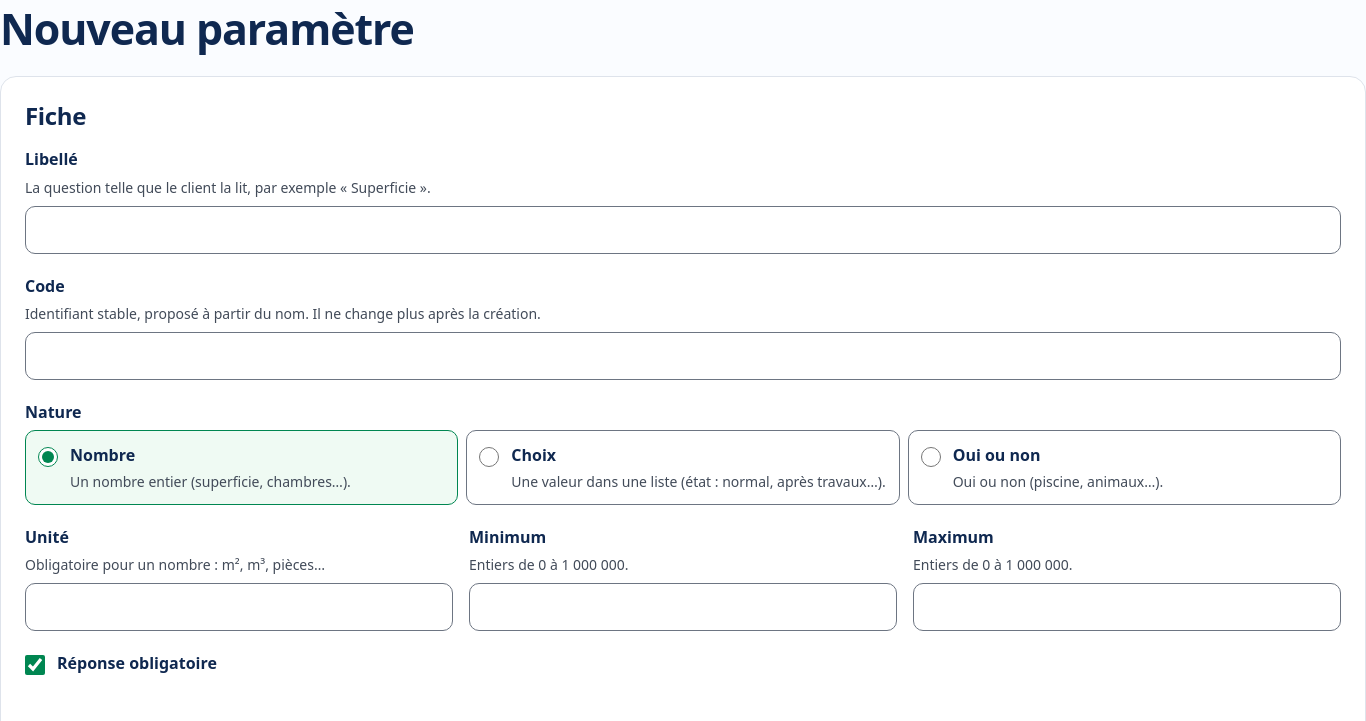
Test: paramètres › refus de la gateway sur un champ : message sous le champ, nouvelle clé au nouvel essai
Step 1. Type "État" into the field labelled "Libellé" → (683, 230), box [25, 206, 1341, 254]
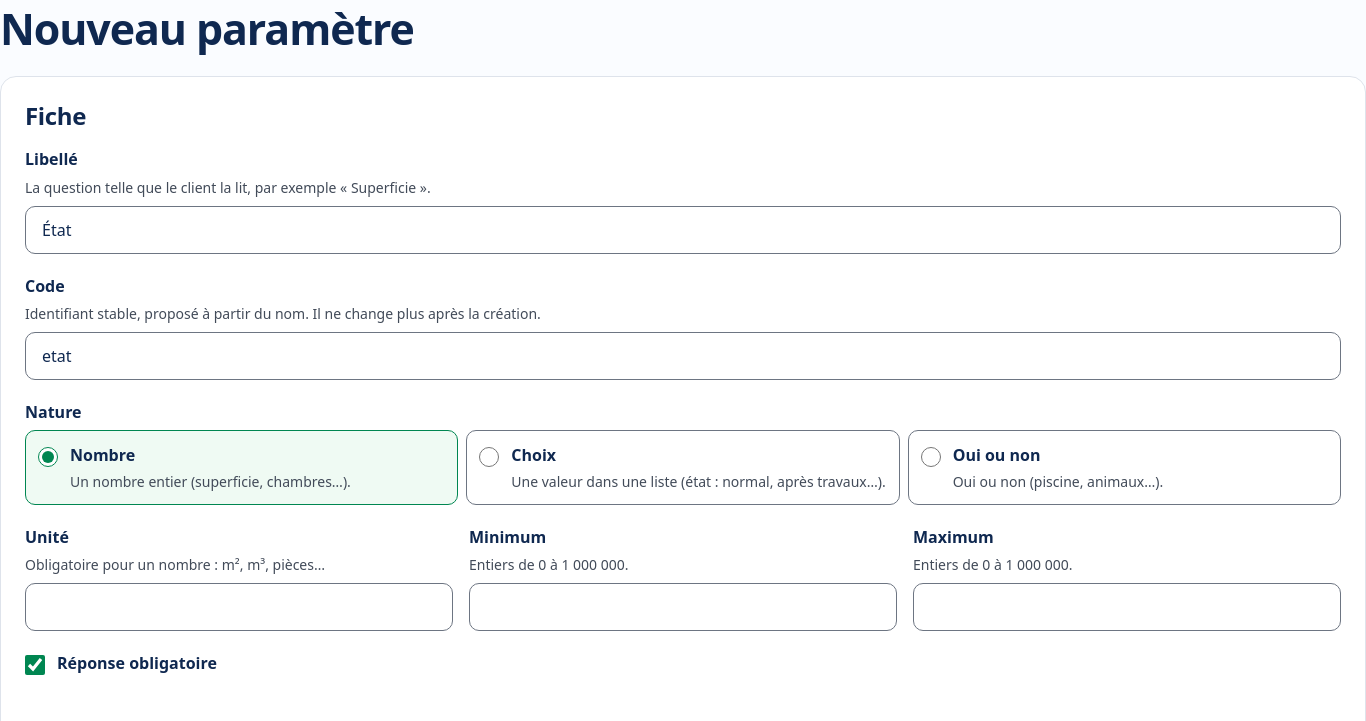
Step 2. Click the radio button labelled "Choix" → (489, 457), box [479, 447, 499, 467]
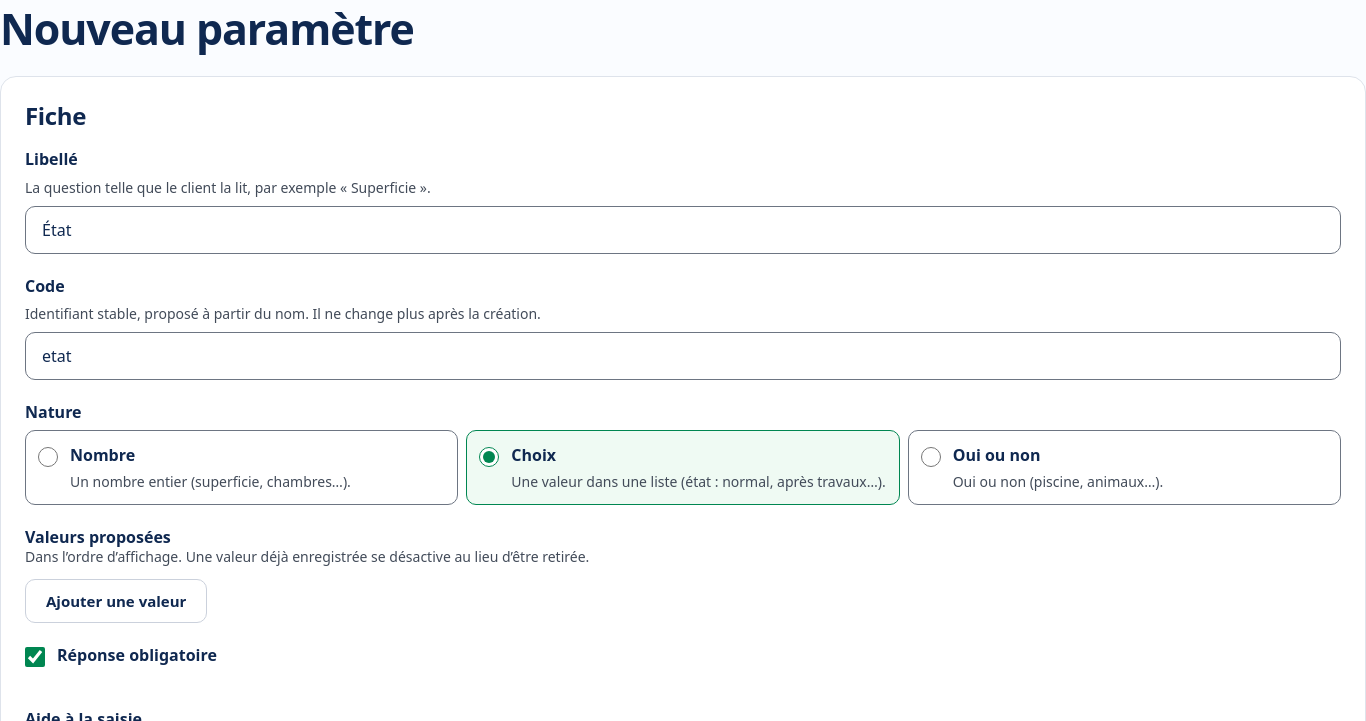
Step 3. Click the button "Ajouter une valeur" → (116, 601), box [25, 579, 207, 623]
(page scrolled)
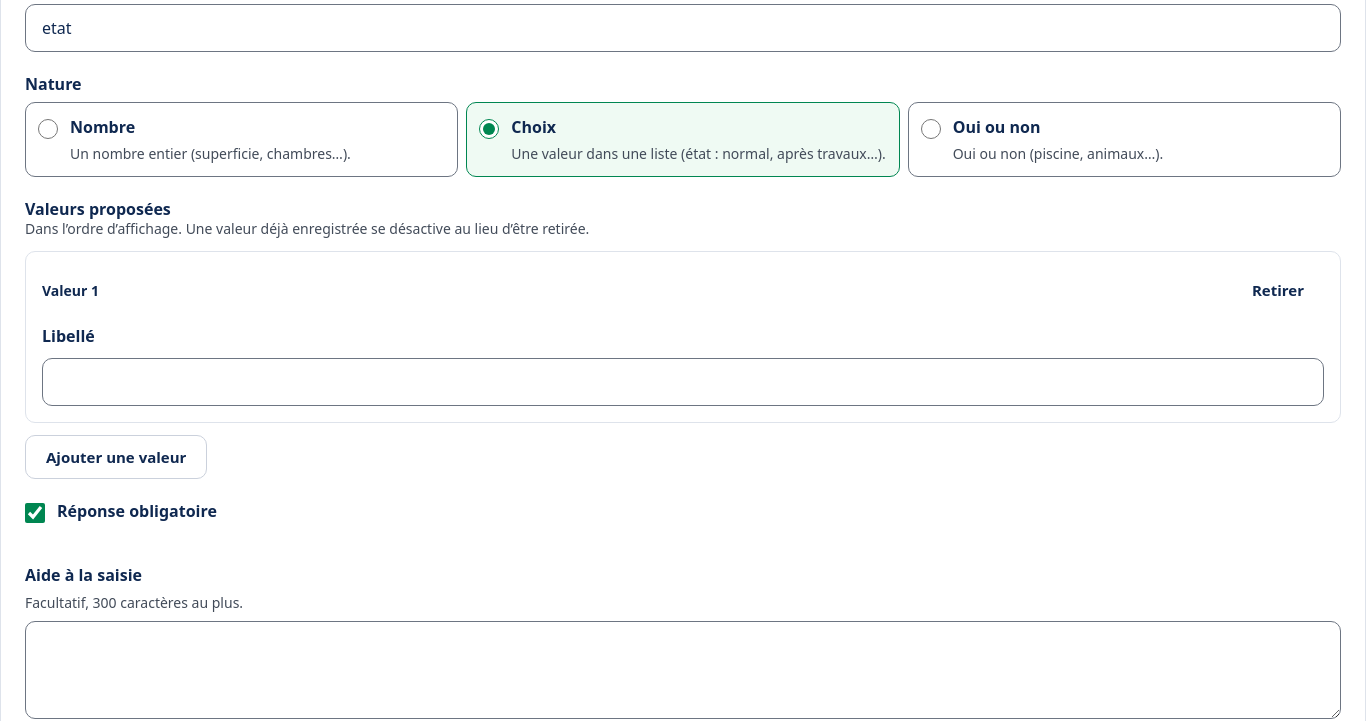
Step 4. Type "Normal" into the field labelled "Libellé" → (683, 382), box [42, 358, 1324, 406]
(page scrolled)
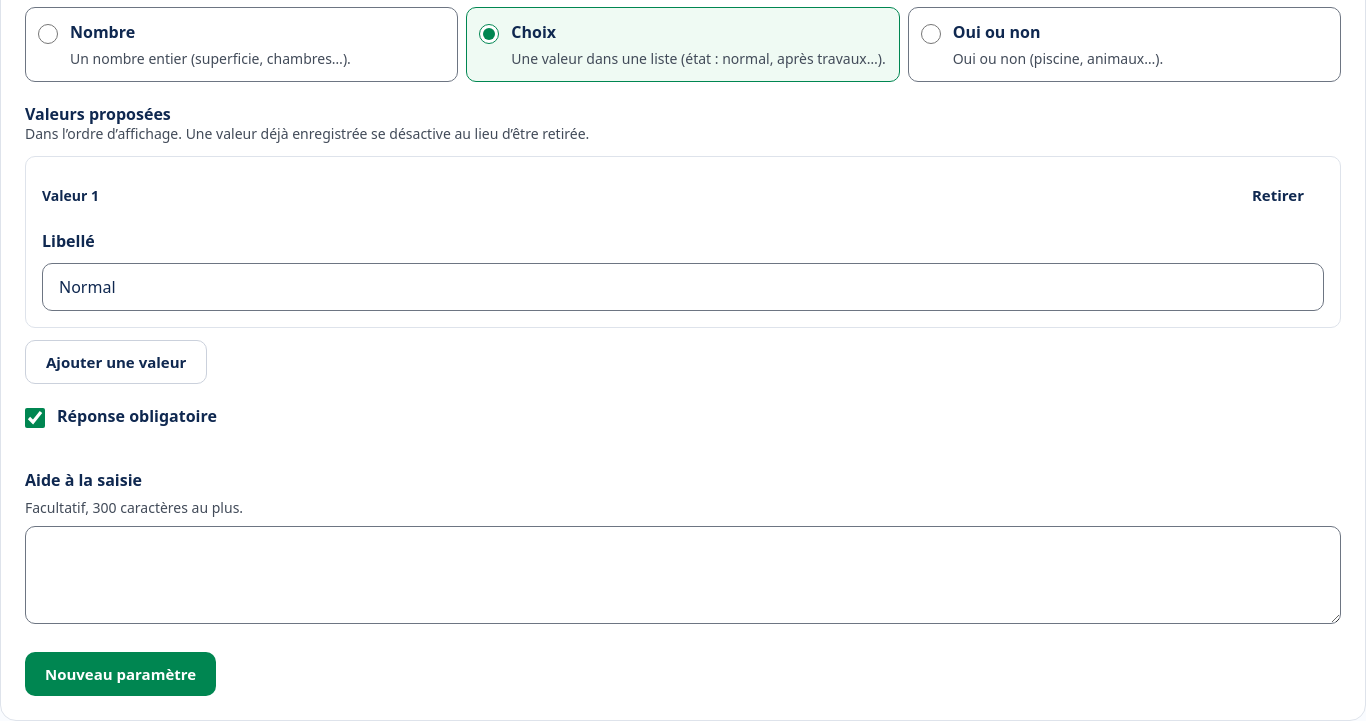
Step 5. Click the button "Nouveau paramètre" → (121, 674), box [25, 652, 216, 696]
(page scrolled)
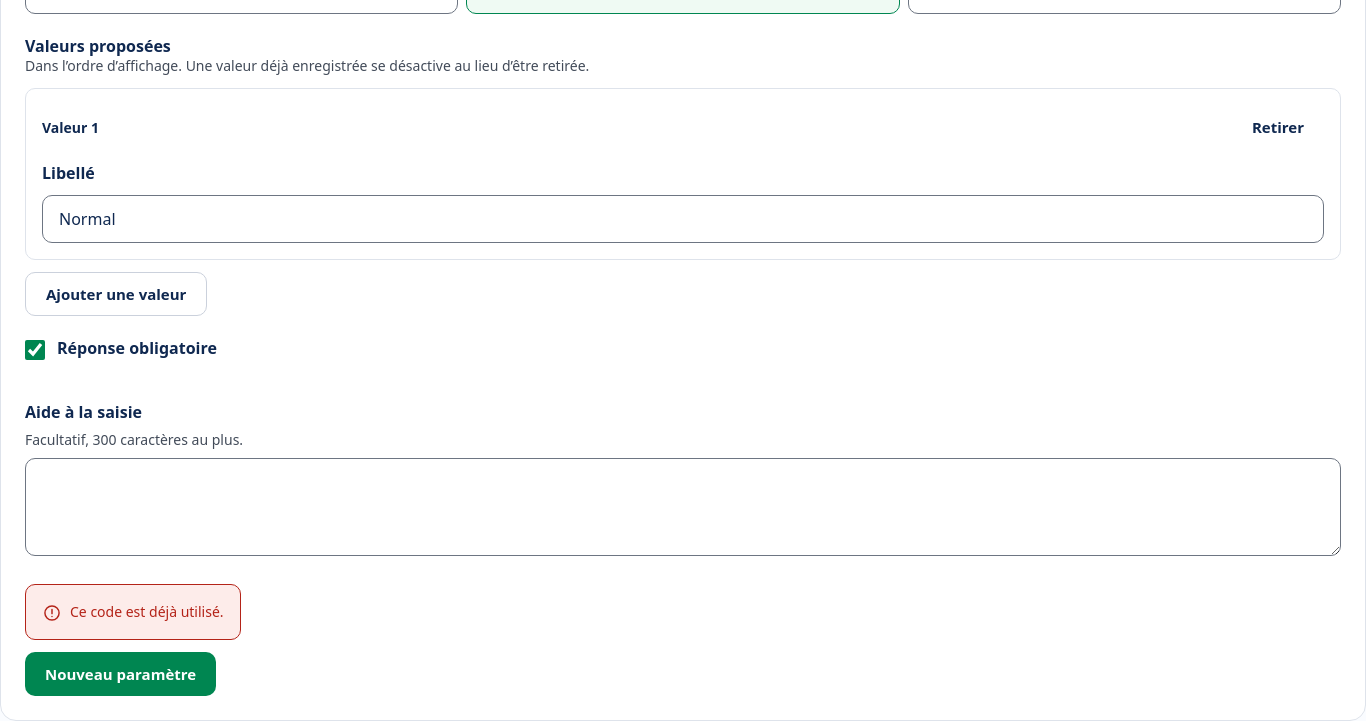
expect the text "Ce code est déjà utilisé." is shown: met, box [70, 601, 224, 622]
Step 6. Click the button "Nouveau paramètre" → (121, 674), box [25, 652, 216, 696]
(page scrolled)
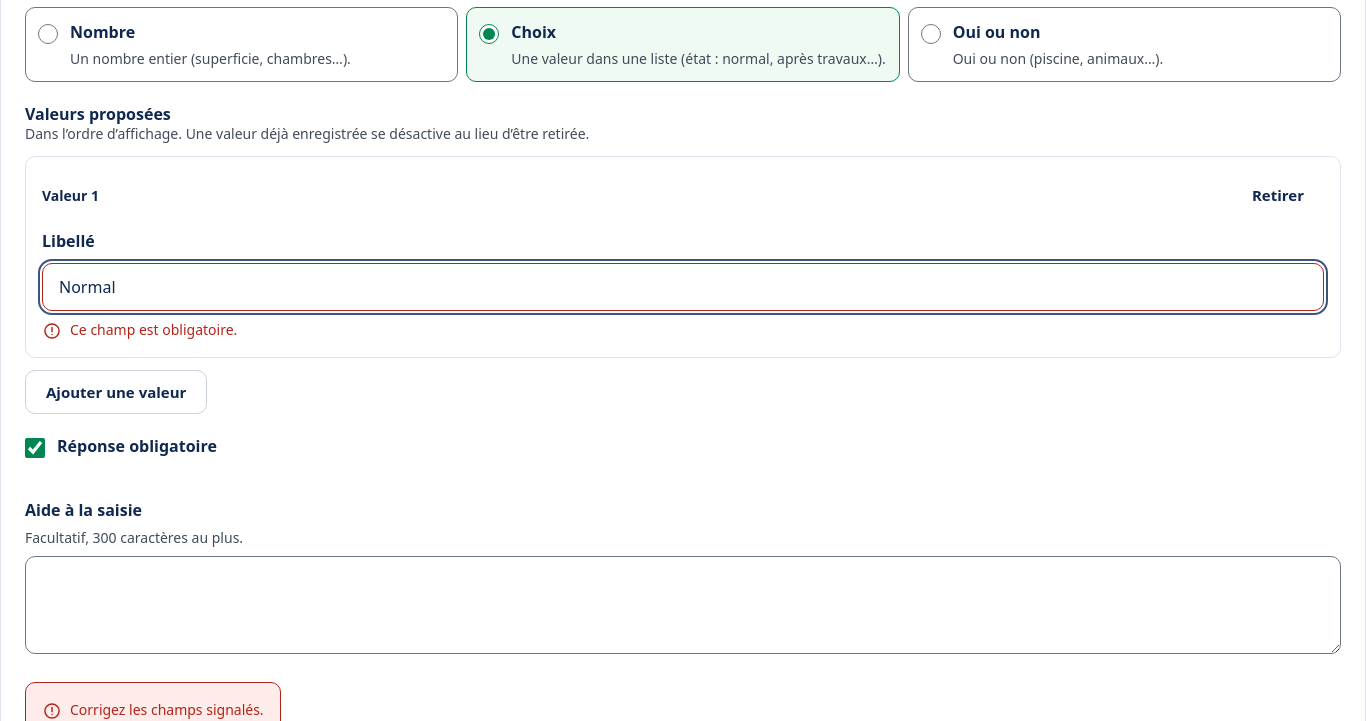
expect the text "Ce champ est obligatoire." is shown: met, box [70, 319, 237, 340]
